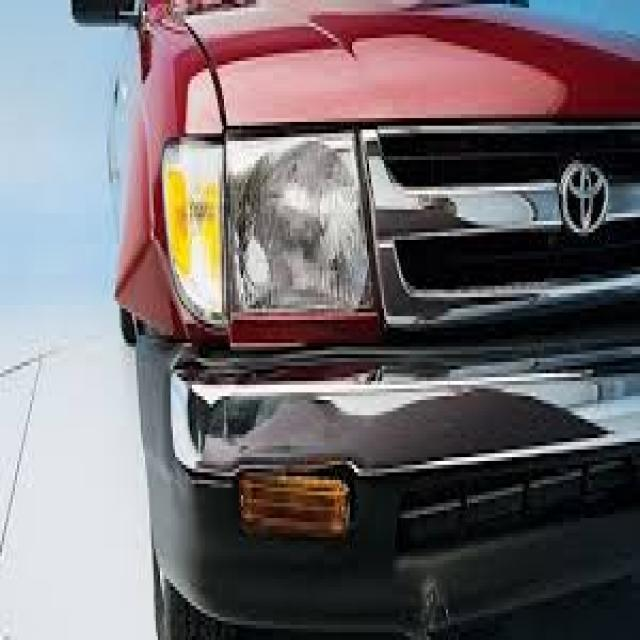minor: (101, 133, 182, 346)
